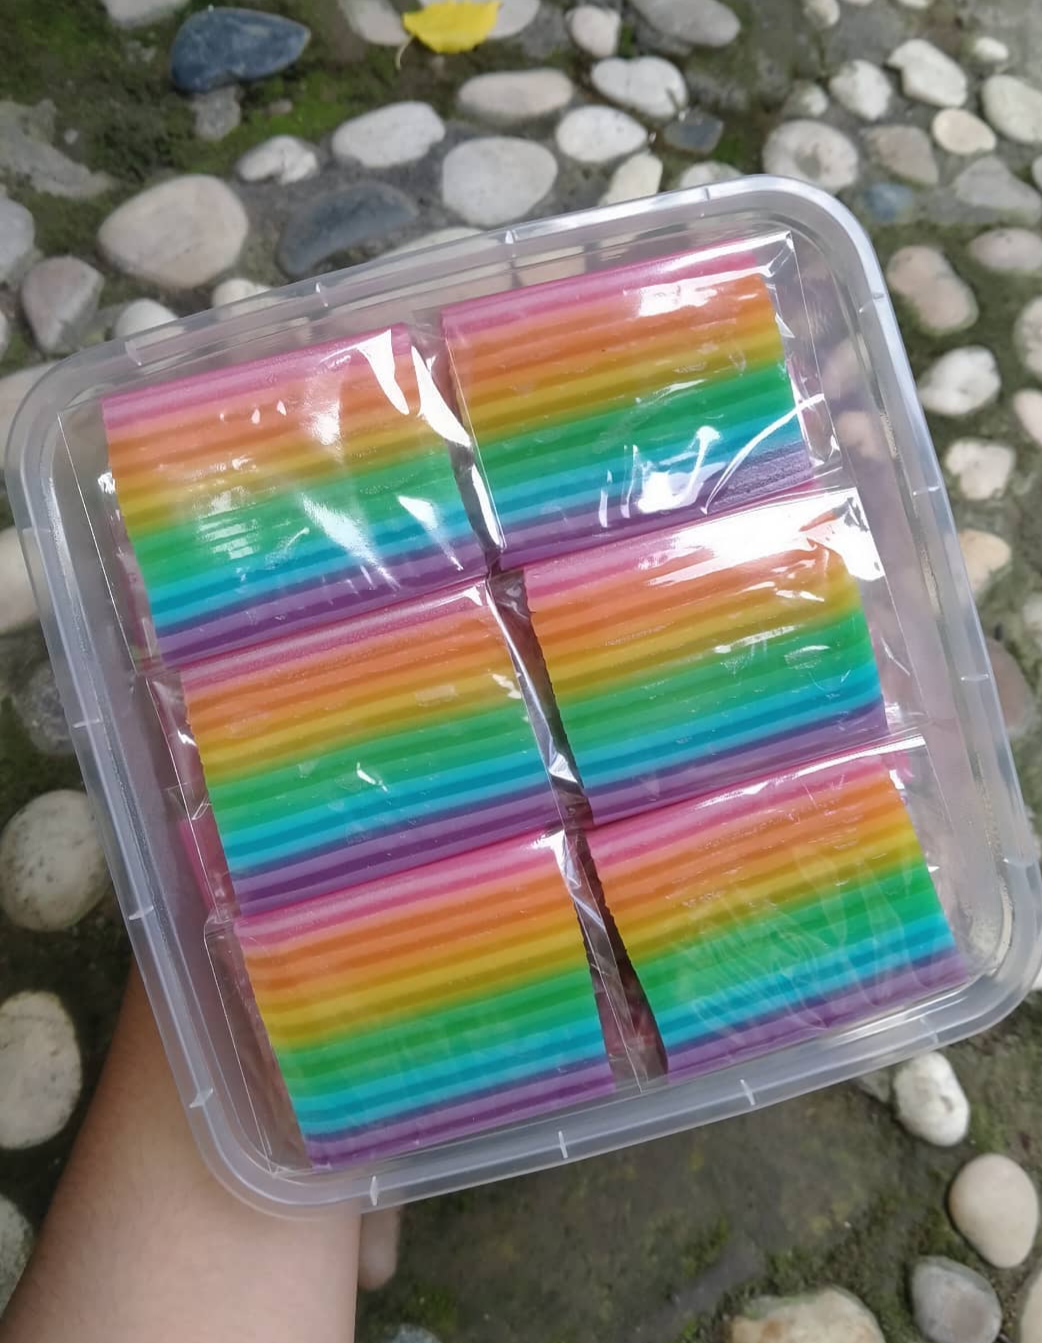kue_lapis_pelangi: (516, 495, 938, 820), (96, 323, 486, 667), (166, 583, 553, 921), (221, 840, 621, 1156), (467, 235, 811, 582), (589, 751, 948, 1081)
